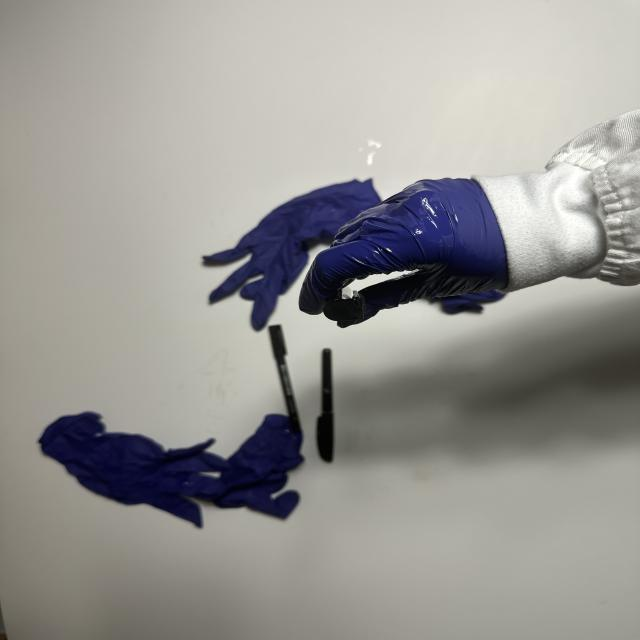gloves_contaminated: (299, 178, 507, 322)
